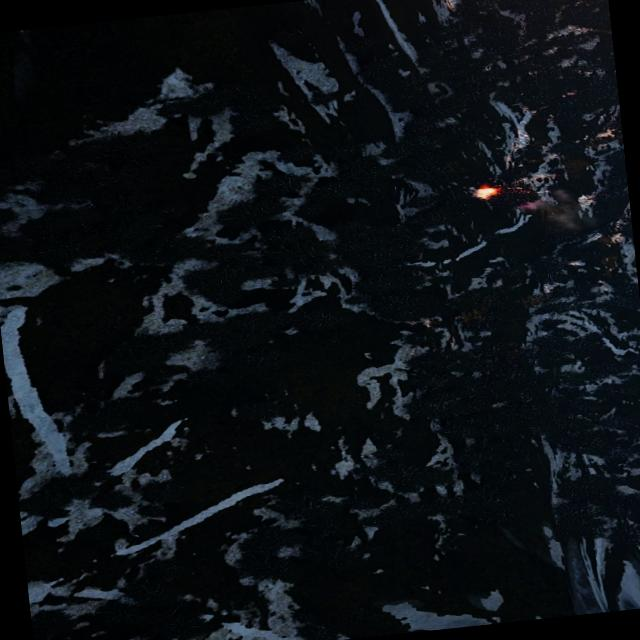fire: (474, 186, 496, 200)
smoke: (522, 182, 602, 240)
